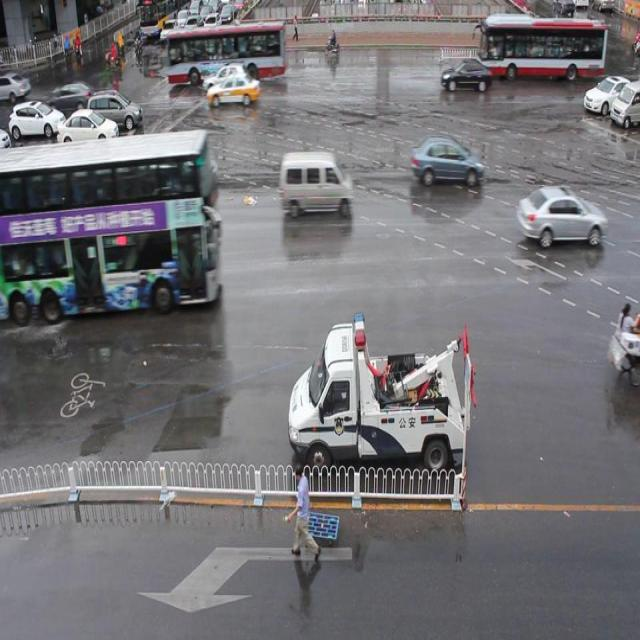car: (515, 184, 605, 246), (410, 135, 482, 189), (145, 156, 216, 204), (439, 59, 493, 94), (206, 74, 259, 105), (202, 62, 252, 93)
truck: (277, 151, 353, 216)
van: (1, 132, 220, 310), (478, 14, 604, 78), (165, 25, 286, 82)
